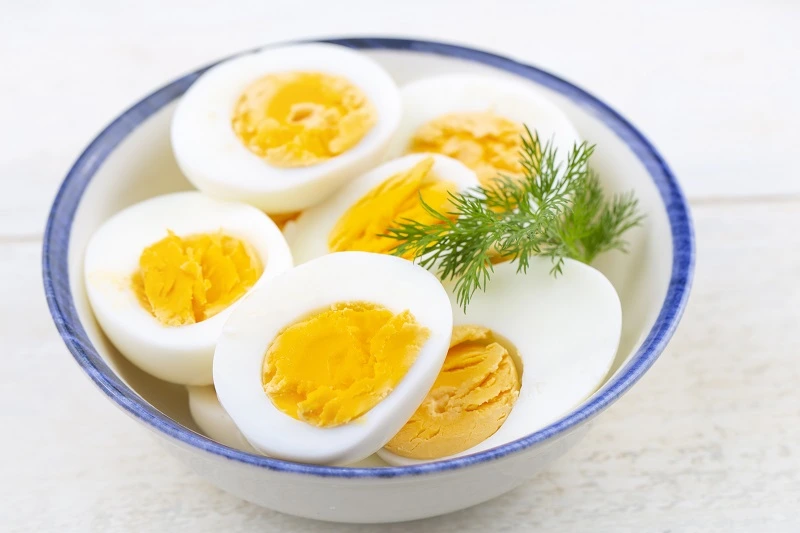telur: (255, 286, 410, 428), (205, 72, 368, 173), (104, 225, 236, 344), (473, 293, 575, 413)
